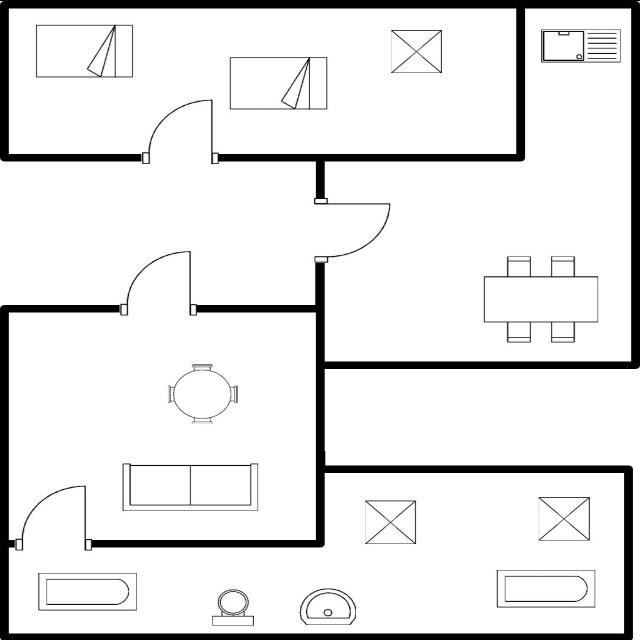bed: (29, 18, 138, 82), (224, 52, 332, 113)
coffee_table: (386, 23, 446, 79), (533, 492, 595, 544), (358, 496, 420, 546)
dining_table: (474, 250, 602, 346)
large_sink: (207, 585, 259, 629)
large_sofa: (116, 459, 262, 515)
round_table: (161, 359, 243, 429)
sink: (536, 24, 626, 66)
small_sink: (296, 584, 361, 628)
tub: (32, 566, 140, 614), (491, 565, 599, 611)
